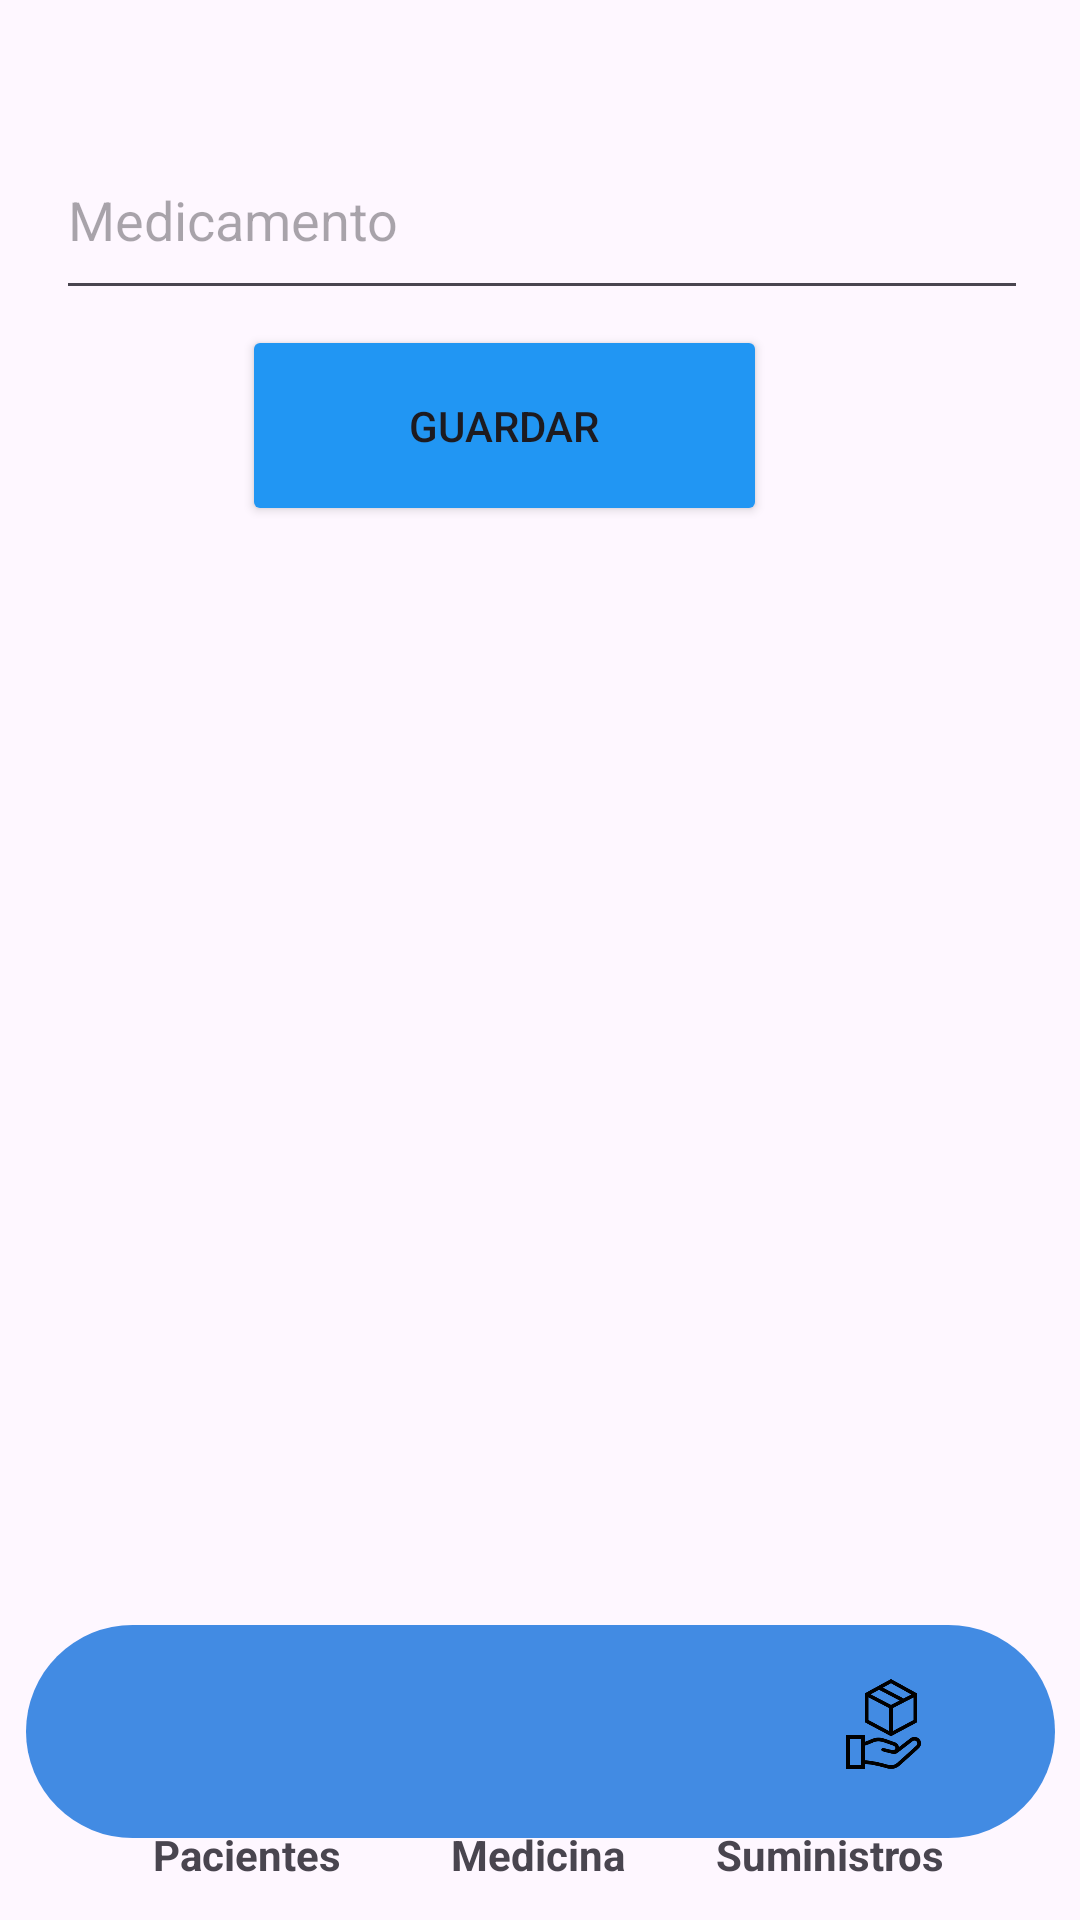

Locate icon controls on the screen. Image size 1080×1920, boxes as (x1=x1, y1=y1, x2=x2, y2=y2).
supply: (x1=846, y1=1679, x2=921, y2=1769)
